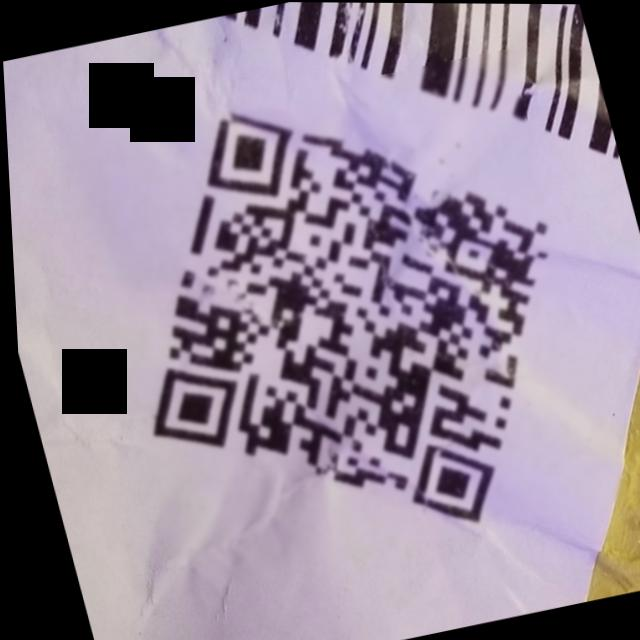QR_CODE: (56, 44, 626, 593)
